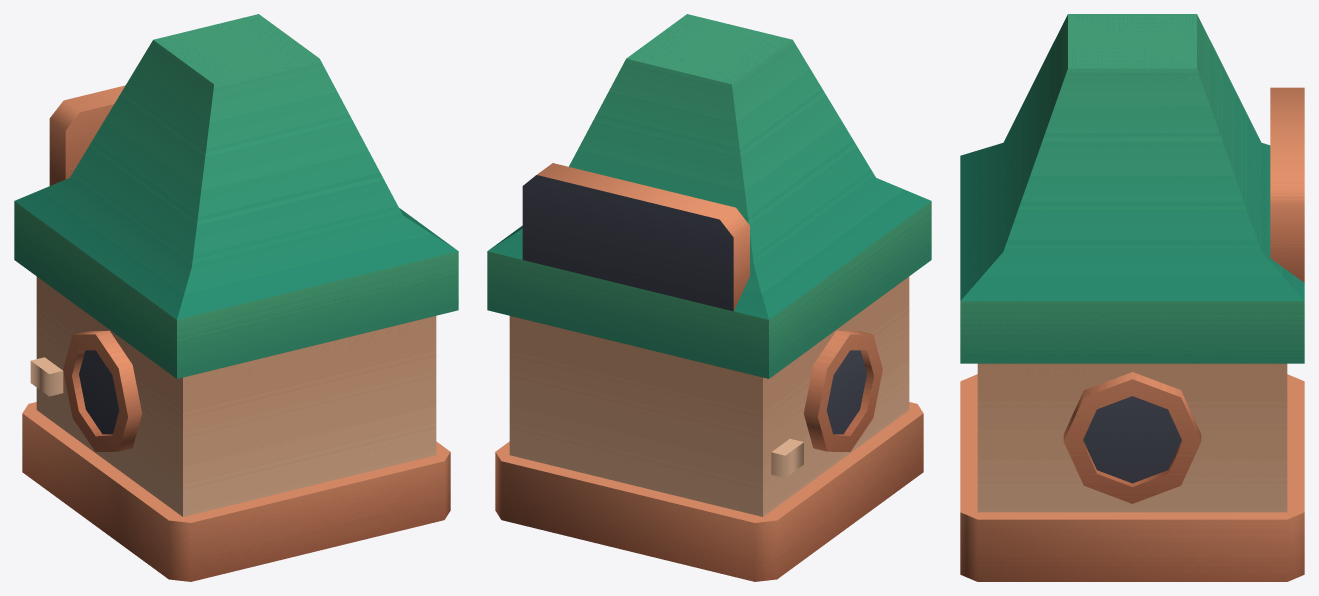
File: ride-entrance.glb
3 views of the same model, side by side, from view 1: azimuth 30°, elevation 25°; view 2: azimuth 150°, elevation 25°; view 3: azimuth 270°, elevation 25° (orthographic). The views are drawn at different scales.
Visible parts, largest first — view 1: ride-entrance; view 2: ride-entrance; view 3: ride-entrance.
Boxes of the visible parts, box(x1,y1,x2,y2) form: ride-entrance: box(14, 14, 458, 581); ride-entrance: box(487, 14, 931, 581); ride-entrance: box(960, 14, 1304, 581).
Size of the model in its own units: 3 by 4.5 by 3.
Materials: 1 (1 with a texture image).
